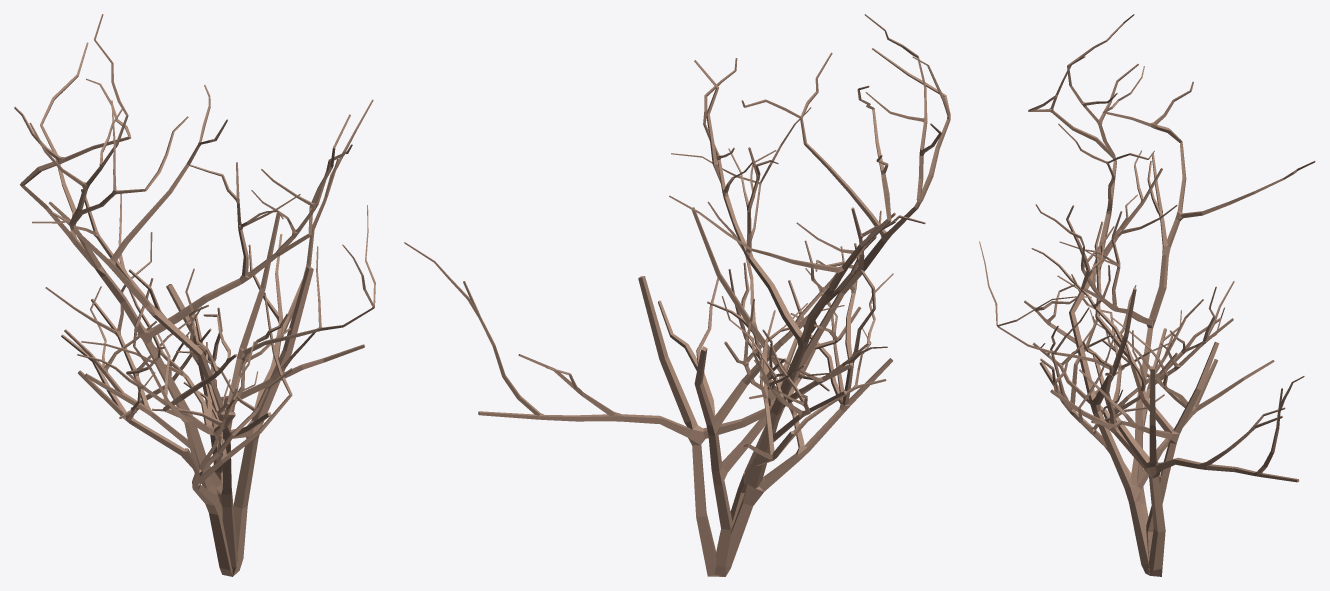
3 renders of one model, left to right at view 1: azimuth 30°, elevation 25°; view 2: azimuth 150°, elevation 25°; view 3: azimuth 270°, elevation 25°, orthographic. The views are drawn at different scales.
Visible parts, largest first — view 1: Arbusto; view 2: Arbusto; view 3: Arbusto.
Boxes of the visible parts, <box> form: Arbusto: <box>14,14,375,576</box>; Arbusto: <box>404,14,950,576</box>; Arbusto: <box>979,14,1315,576</box>.
Bounding box in the file's own units: 1.9 × 2.47 × 1.49.
